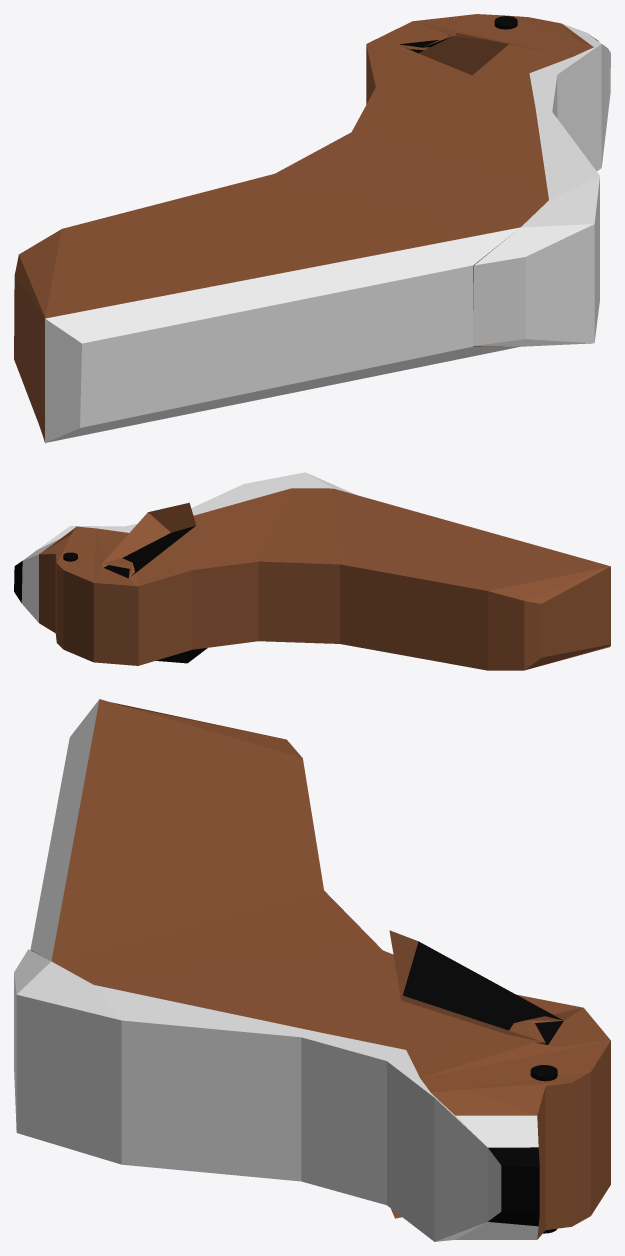
File: dog.glb
3 renders of one model, top to bottom at view 1: azimuth 30°, elevation 25°; view 2: azimuth 150°, elevation 25°; view 3: azimuth 270°, elevation 25°, orthographic. The views are drawn at different scales.
Parts seen in each view (by area): view 1: Cube; view 2: Cube; view 3: Cube.
Boxes of the visible parts, left/top/right/bottom form: Cube: left=14, top=14, right=610, bottom=443; Cube: left=14, top=472, right=610, bottom=670; Cube: left=14, top=699, right=610, bottom=1241.
Bounding box in the file's own units: 8.2 × 2.56 × 4.92.
